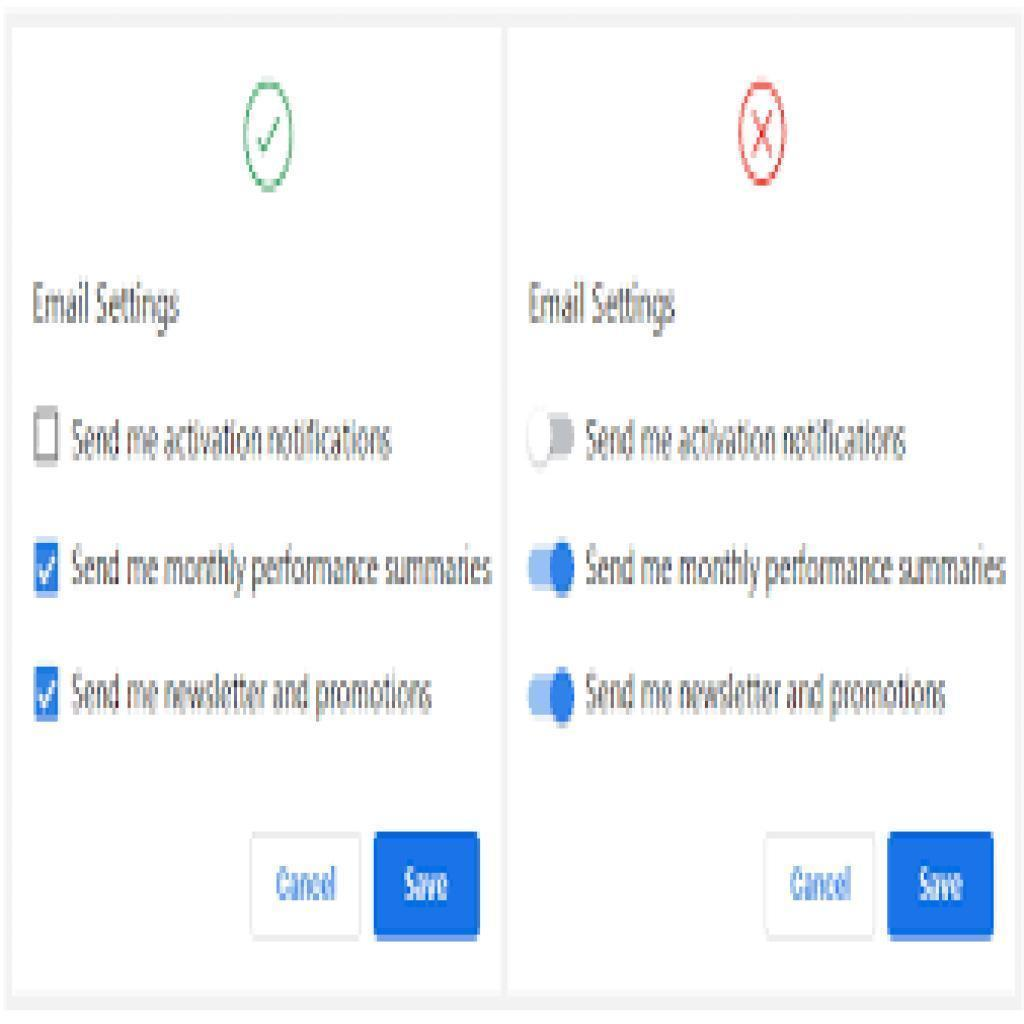button: (885, 832, 994, 937), (251, 835, 362, 937), (377, 832, 480, 940), (766, 832, 874, 933)
checkbox: (32, 666, 62, 720), (32, 539, 58, 593), (34, 411, 60, 464)
label: (584, 665, 952, 726), (586, 540, 1009, 593), (68, 542, 498, 593), (68, 670, 437, 721), (586, 413, 915, 470), (71, 413, 398, 466), (24, 275, 189, 334), (522, 277, 681, 332)
switch: (524, 534, 578, 599), (525, 405, 578, 470), (524, 667, 576, 732)
